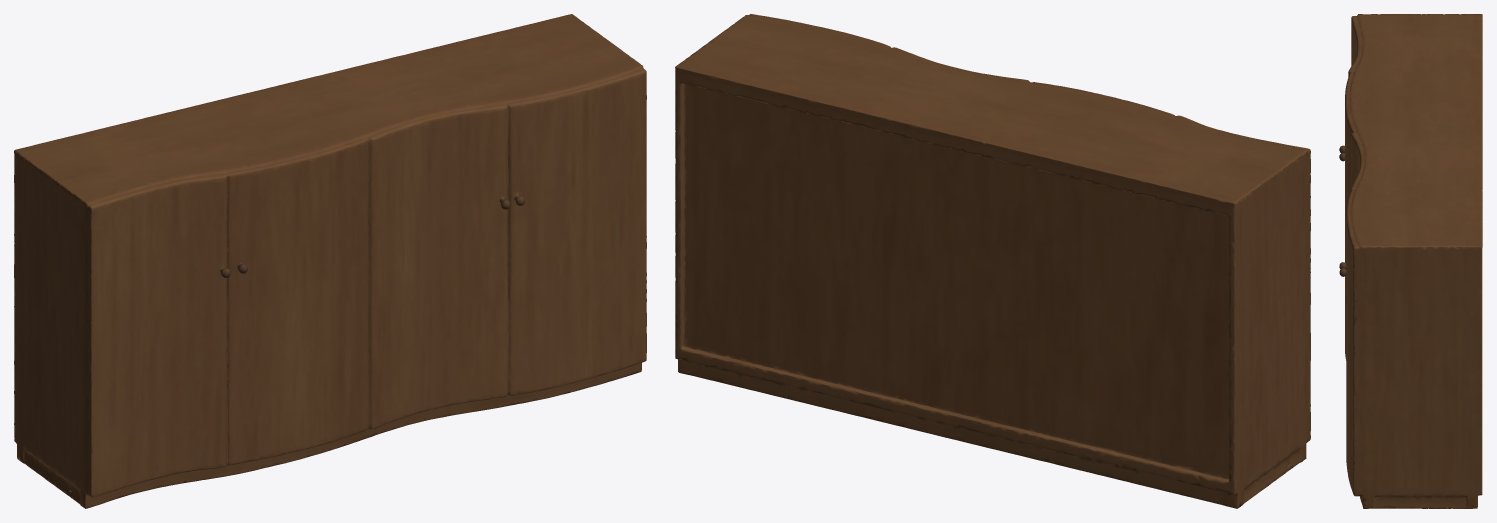
File: rack.glb
The picture shows the model from 3 angles, left to right: view 1: azimuth 30°, elevation 25°; view 2: azimuth 150°, elevation 25°; view 3: azimuth 270°, elevation 25°; orthographic projection. The views are drawn at different scales.
Visible parts, largest first — view 1: world; view 2: world; view 3: world.
Boxes of the visible parts, x1,y1,x2,y2 form: world: [14, 14, 646, 508]; world: [675, 14, 1310, 508]; world: [1339, 14, 1482, 508].
Size of the model in its own units: 0.9983 by 0.5249 by 0.2596.
1 material, 1 textured.
